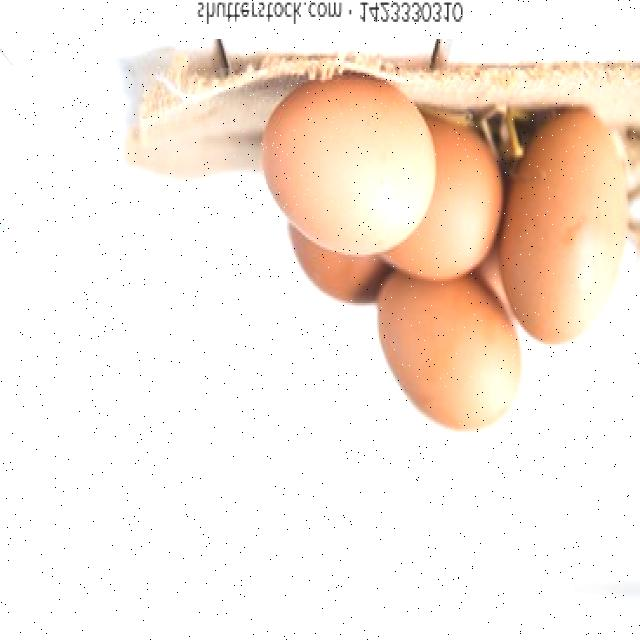Brown Egg: (246, 71, 444, 260), (505, 108, 626, 350), (367, 274, 524, 444)
